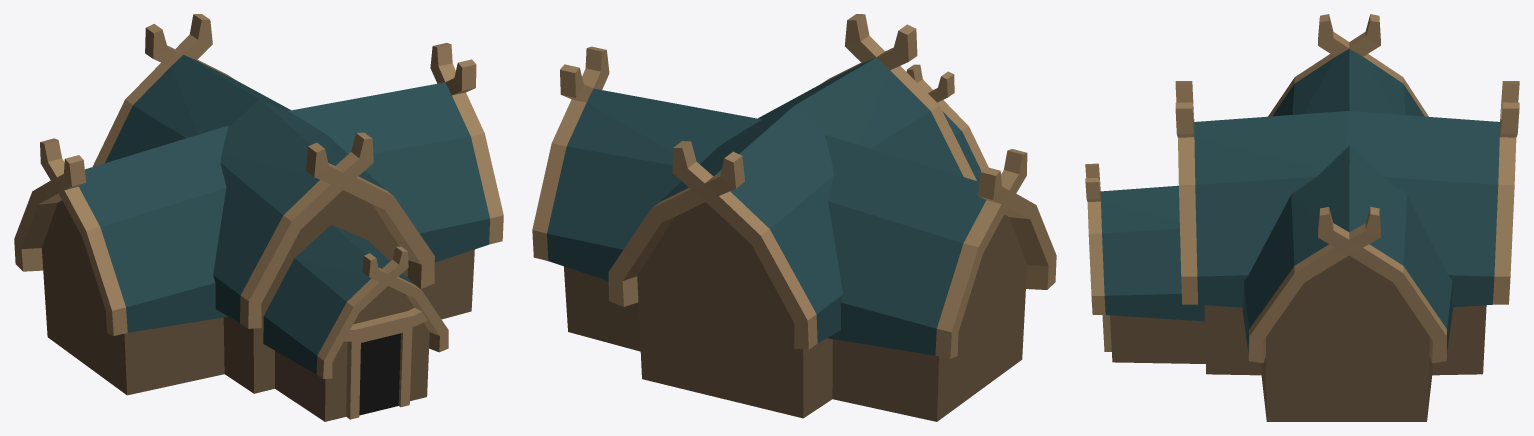
Rendered from House_Tiny7.fbx.
The picture shows the model from 3 angles, left to right: view 1: azimuth 30°, elevation 25°; view 2: azimuth 150°, elevation 25°; view 3: azimuth 270°, elevation 25°; orthographic projection. The views are drawn at different scales.
Parts seen in each view (by area): view 1: SM_Bld_Viking_House_03; view 2: SM_Bld_Viking_House_03; view 3: SM_Bld_Viking_House_03.
Boxes of the visible parts, x1,y1,x2,y2 form: SM_Bld_Viking_House_03: [14, 14, 503, 421]; SM_Bld_Viking_House_03: [532, 14, 1056, 421]; SM_Bld_Viking_House_03: [1085, 14, 1519, 421].
Size of the model in its own units: 183 by 104 by 168.
